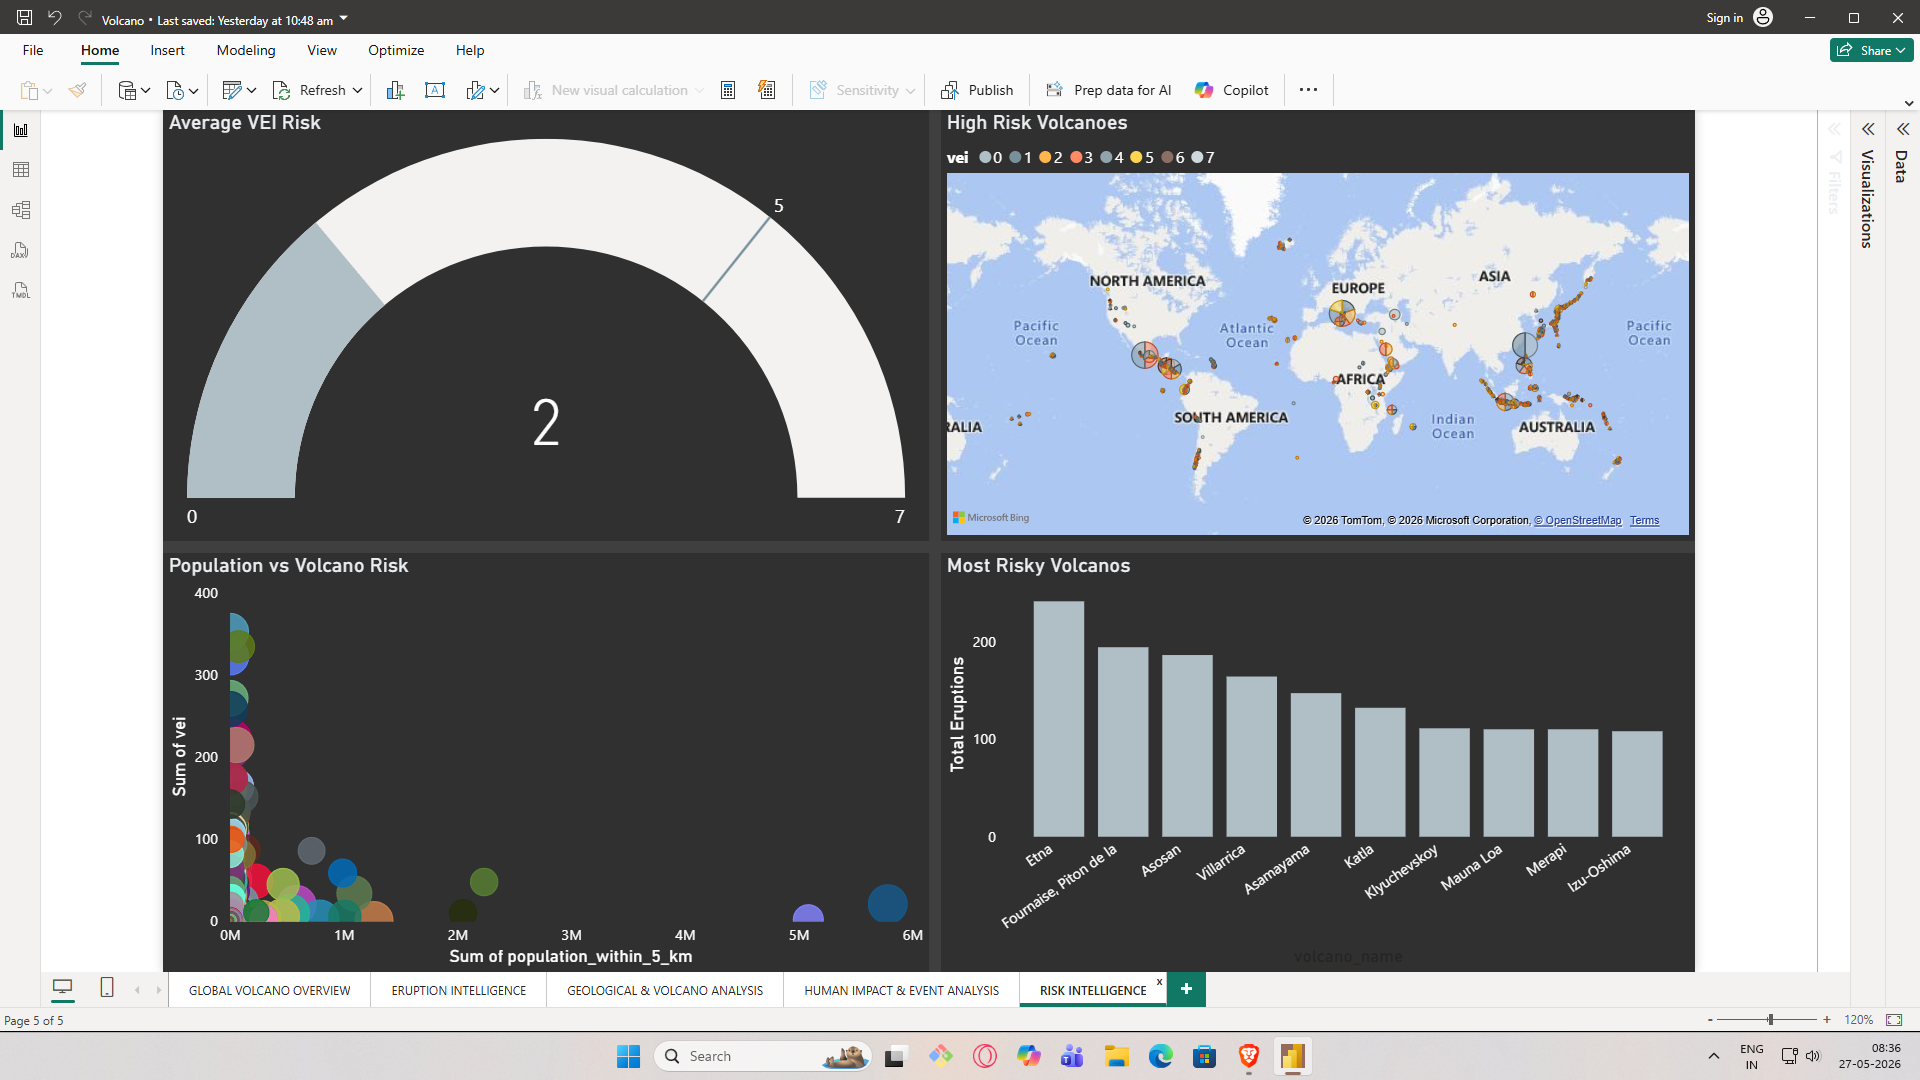

The page's visual inventory and layout, read from the dashboard file:
{"tool":"powerbi","page":{"name":"RISK INTELLIGENCE","canvas":[1280,720],"ordinal":4},"visuals":[{"type":"gauge","title":"Average VEI Risk","fields":{"Y":["eruptions.Average VEI"],"MinValue":["eruptions.Minumum"],"MaxValue":["eruptions.Maximum"],"TargetValue":["eruptions.Target"]},"box":[0,0,640,359.9],"z":0},{"type":"scatterChart","title":"Population vs Volcano Risk","fields":{"X":["Sum(volcano.population_within_5_km)"],"Y":["Sum(eruptions.vei)"],"Size":["Sum(volcano.elevation)"],"Category":["volcano.volcano_name"],"Series":["volcano.volcano_name"]},"box":[0,370,640,350],"z":1000},{"type":"map","title":"High Risk Volcanoes","fields":{"Y":["volcano.latitude"],"X":["volcano.longitude"],"Size":["Sum(volcano.population_within_5_km)"],"Series":["eruptions.vei"]},"box":[650,0,630,360],"z":2000},{"type":"clusteredColumnChart","title":"Most Risky Volcanos","fields":{"Category":["eruptions.volcano_name"],"Y":["eruptions.Total Eruptions"]},"box":[650,370,630,350],"z":3000}]}

Visuals, with their boxes on the page's 1280x720 design canvas (x1, y1, x2, y2). These are canvas units, not pixel positions in the 1920x1080 screenshot, which may show the page scaled, cropped or inside an application window:
"Average VEI Risk" gauge: 0/0/640/360
"Population vs Volcano Risk" scatterChart: 0/370/640/720
"High Risk Volcanoes" map: 650/0/1280/360
"Most Risky Volcanos" clusteredColumnChart: 650/370/1280/720
